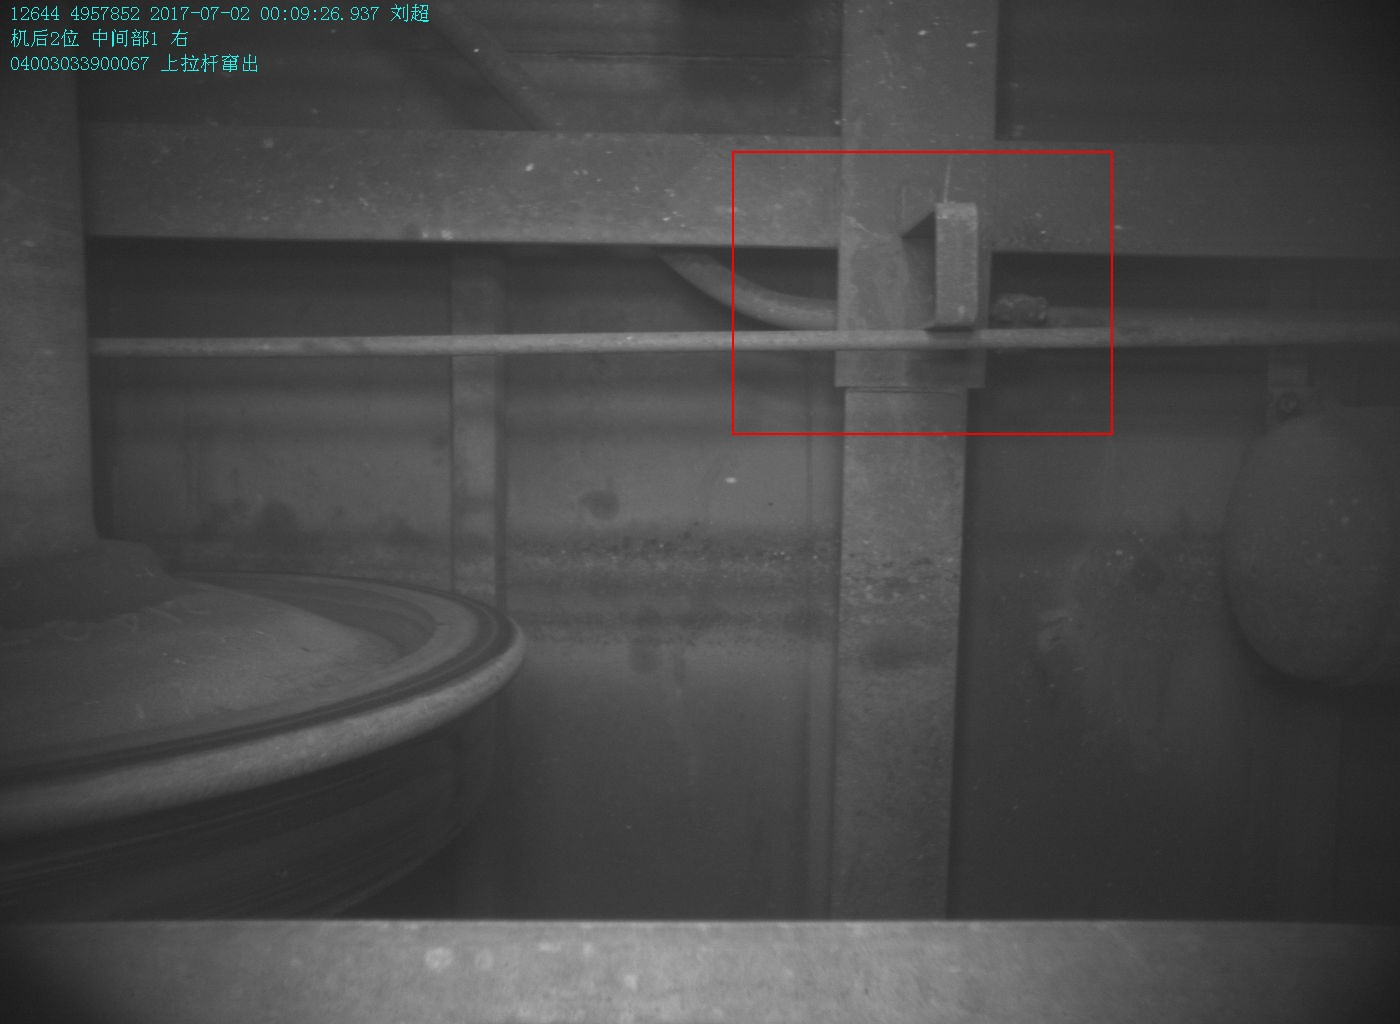upper lever: (903, 185, 985, 351)
